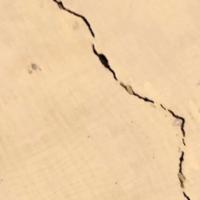crack: (49, 0, 199, 199)
